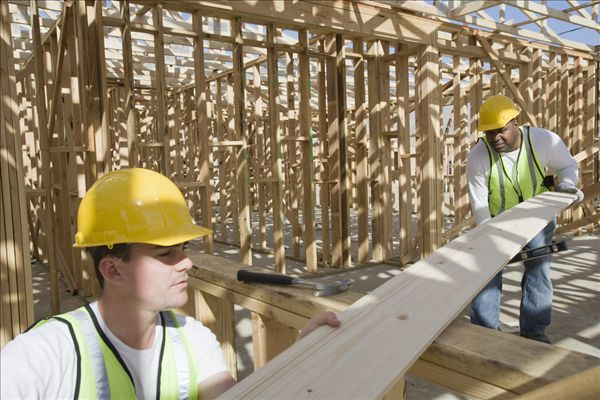boots: (519, 332, 551, 344)
gloves: (555, 181, 584, 206)
hard-hat: (71, 167, 213, 249), (477, 95, 521, 132)
person: (0, 167, 341, 400), (465, 94, 581, 344)
vest: (39, 307, 210, 400), (477, 131, 552, 223)
